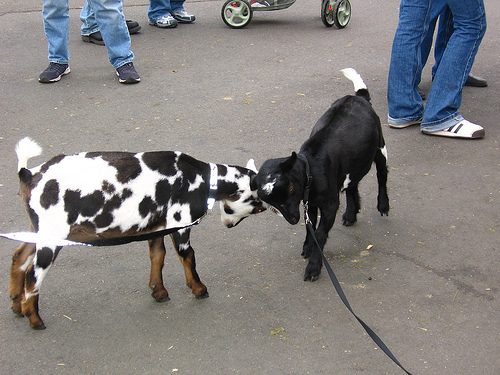goat: (8, 136, 266, 330), (257, 67, 392, 280)
